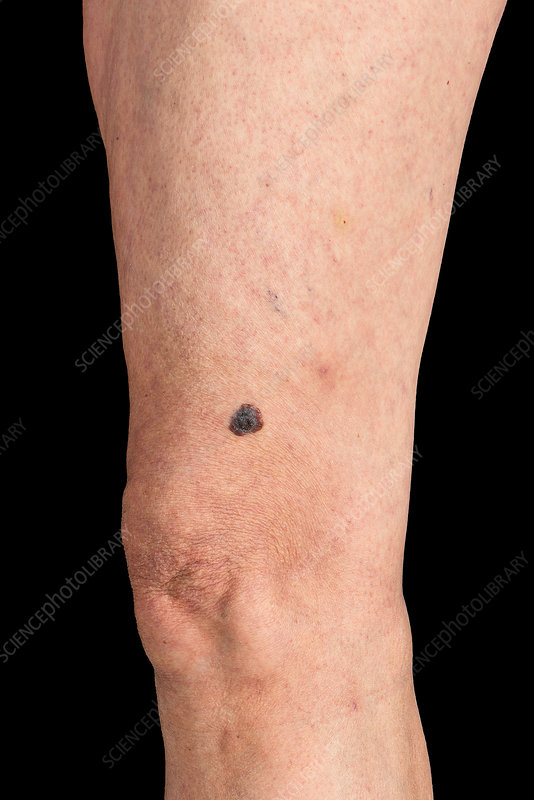melanoma: (167, 358, 344, 494)
